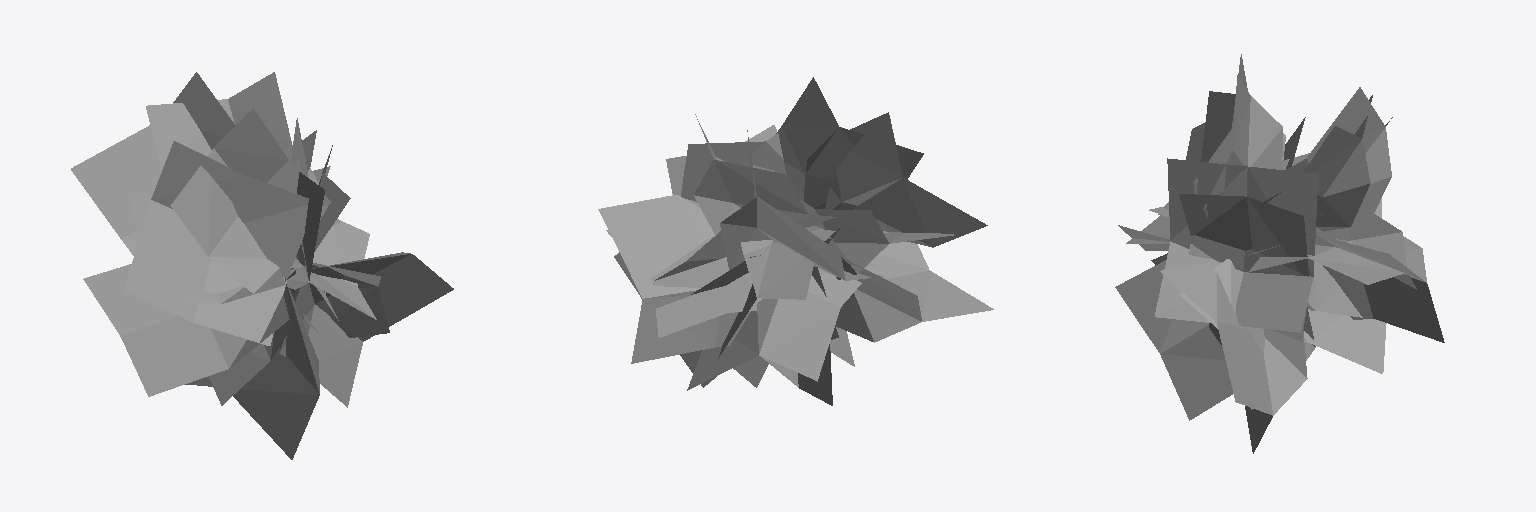
The model's file is baum_hd_leaves.obj.
3 renders of one model, left to right at view 1: azimuth 30°, elevation 25°; view 2: azimuth 150°, elevation 25°; view 3: azimuth 270°, elevation 25°, orthographic.
Visible parts, largest first — view 1: baum_hd_baum_hd.001; view 2: baum_hd_baum_hd.001; view 3: baum_hd_baum_hd.001.
Boxes of the visible parts, x1=… form: baum_hd_baum_hd.001: x1=71, y1=72, x2=453, y2=459; baum_hd_baum_hd.001: x1=598, y1=77, x2=993, y2=405; baum_hd_baum_hd.001: x1=1115, y1=54, x2=1444, y2=453.
Size of the model in its own units: 21.28 by 19.53 by 17.24.